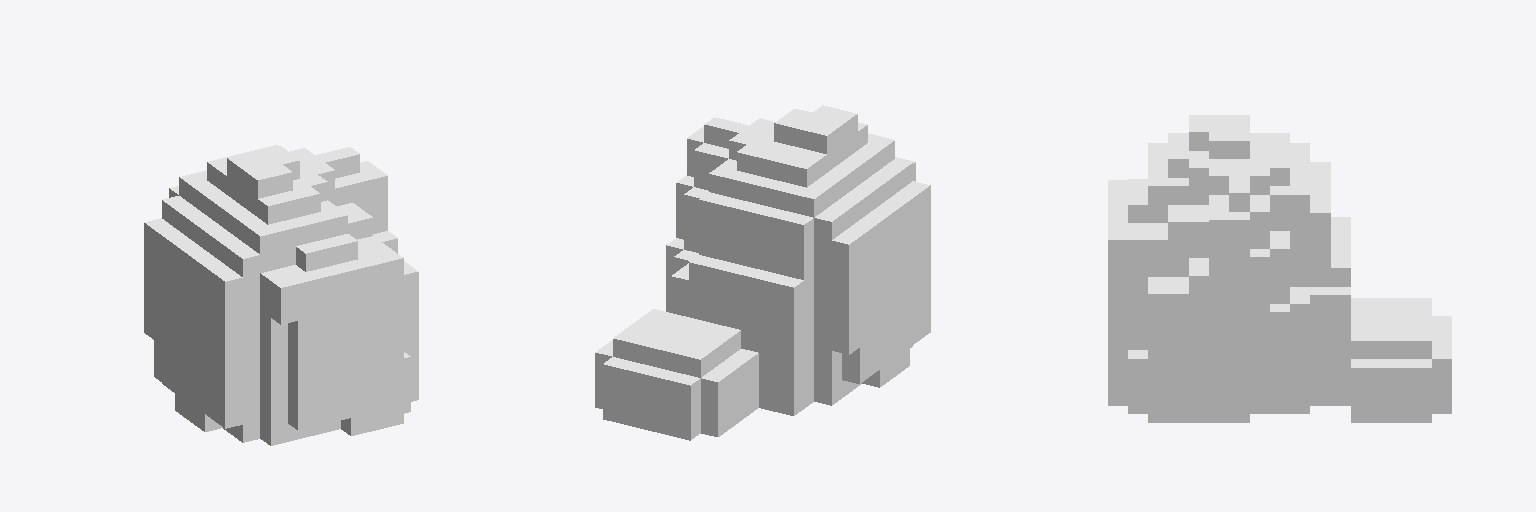
File: resources-1.obj
The picture shows the model from 3 angles: view 1: azimuth 30°, elevation 25°; view 2: azimuth 150°, elevation 25°; view 3: azimuth 270°, elevation 25°; orthographic projection.
Visible parts, largest first — view 1: object 1; view 2: object 1; view 3: object 1.
Boxes of the visible parts, <box> form: object 1: <box>144,145,418,445</box>; object 1: <box>595,105,930,440</box>; object 1: <box>1108,115,1451,422</box>.
Bounding box in the file's own units: 1.1 × 1.3 × 1.7.